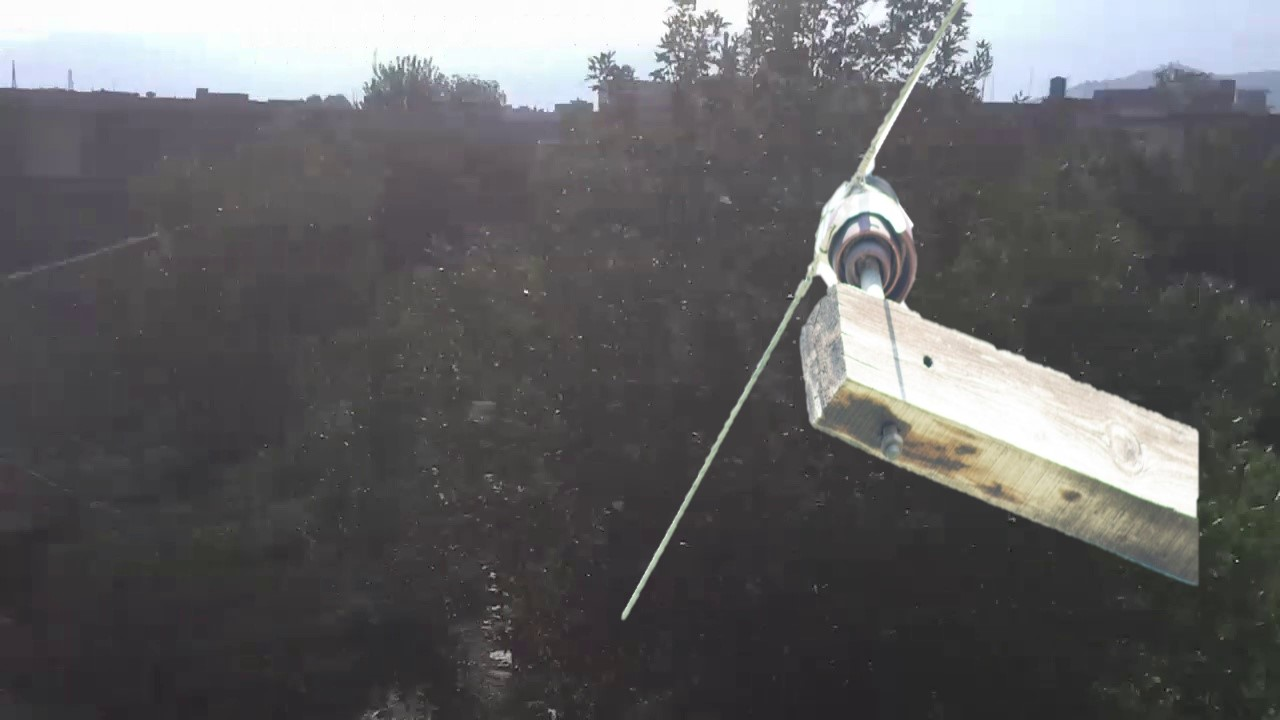defect_pin: (808, 166, 922, 304)
